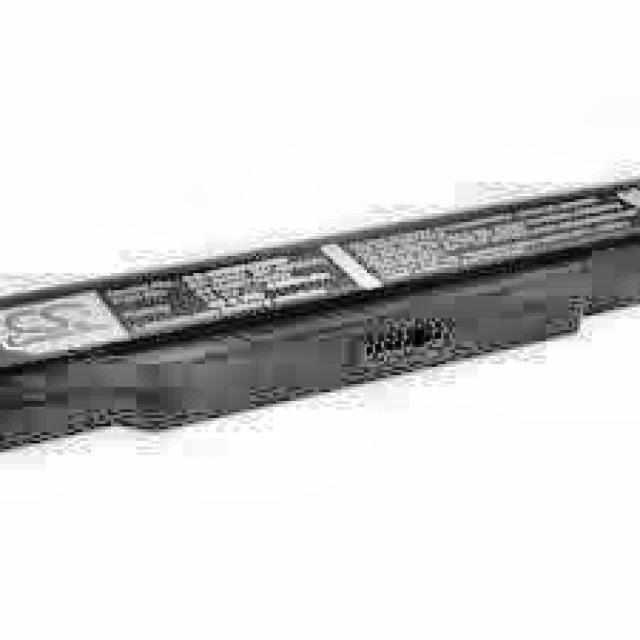Battery: (0, 171, 640, 472)
